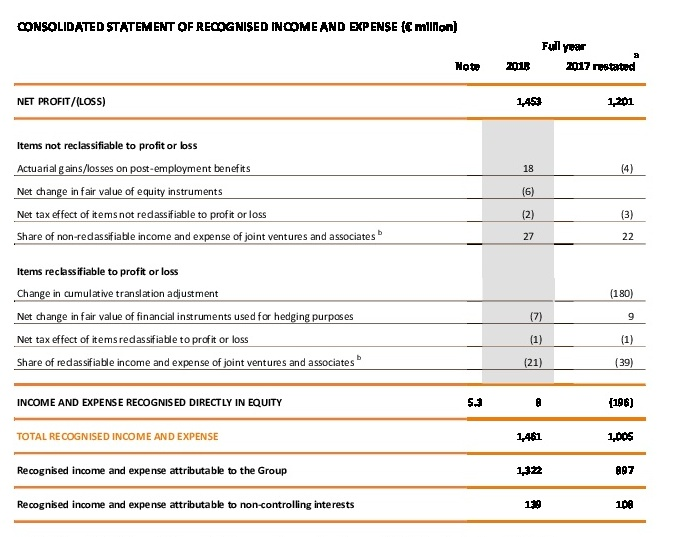table: (0, 0, 675, 537)
